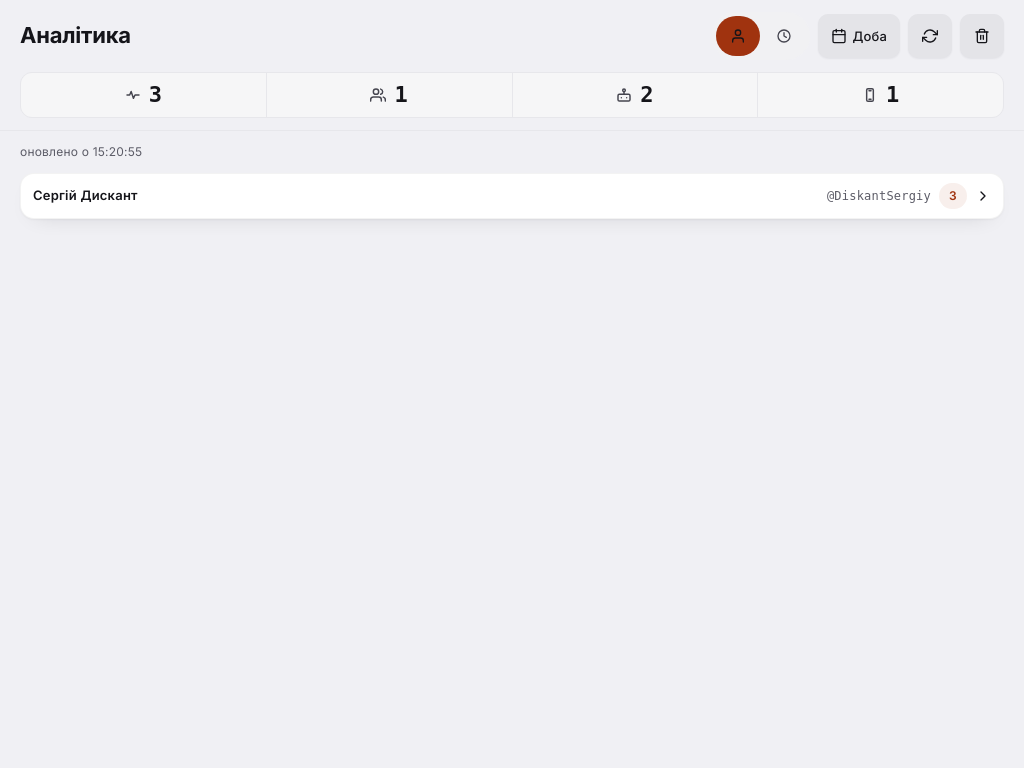
Test: екран «Аналітика» › коли під ознаки нічого не підпадає, журнал не чіпається
Expected: the text "Сергій Дискант" is shown, [33, 187, 138, 203]
Click the button named "Очистити журнал" at [982, 36], box [960, 14, 1004, 58]
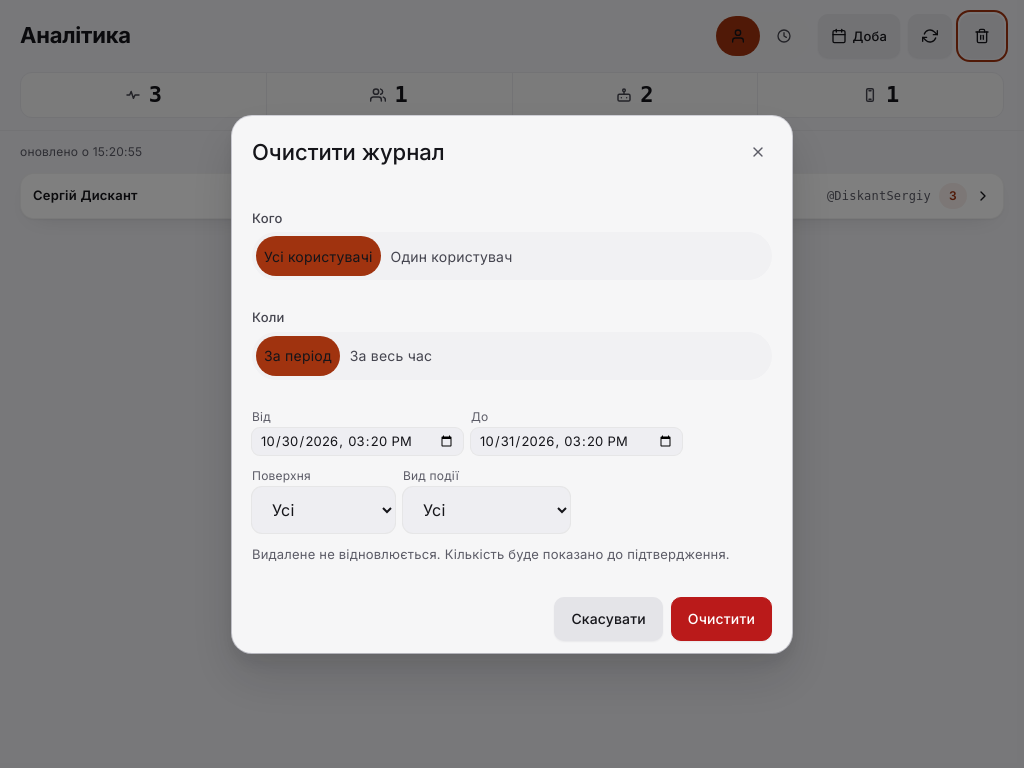
Click the button "За весь час" at [391, 356], box [342, 336, 440, 376]
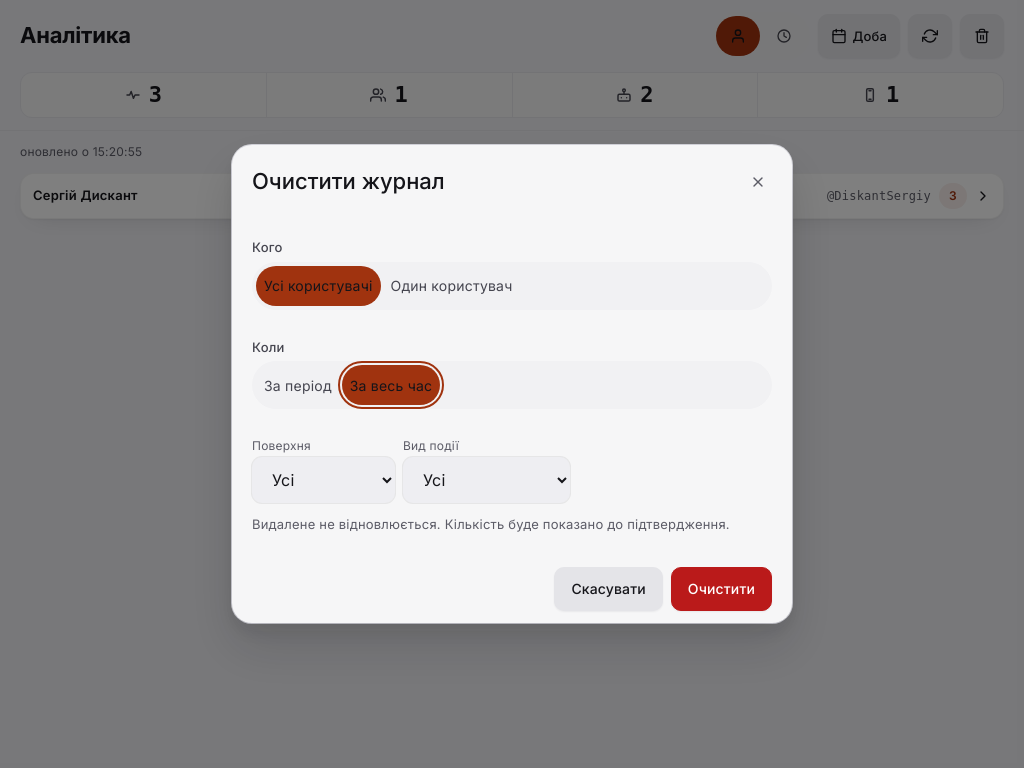
Click the button "Очистити" at [721, 589], box [671, 567, 772, 611]
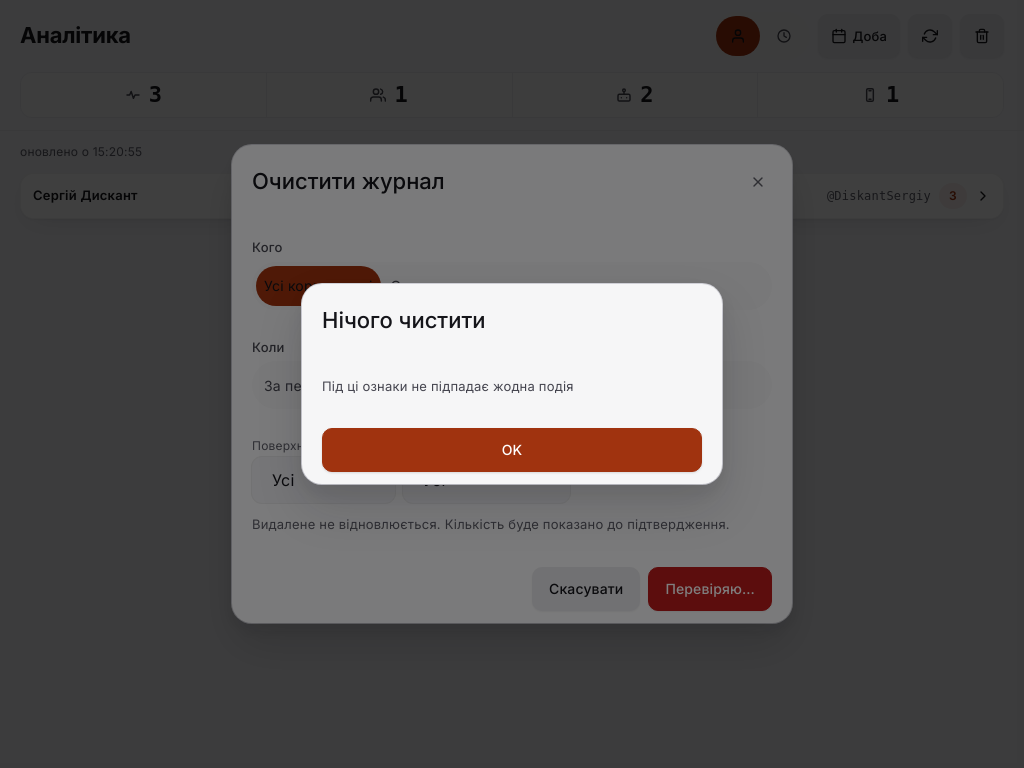
Result: the text "Під ці ознаки не підпадає жодна подія" is shown at [322, 378, 574, 394]
